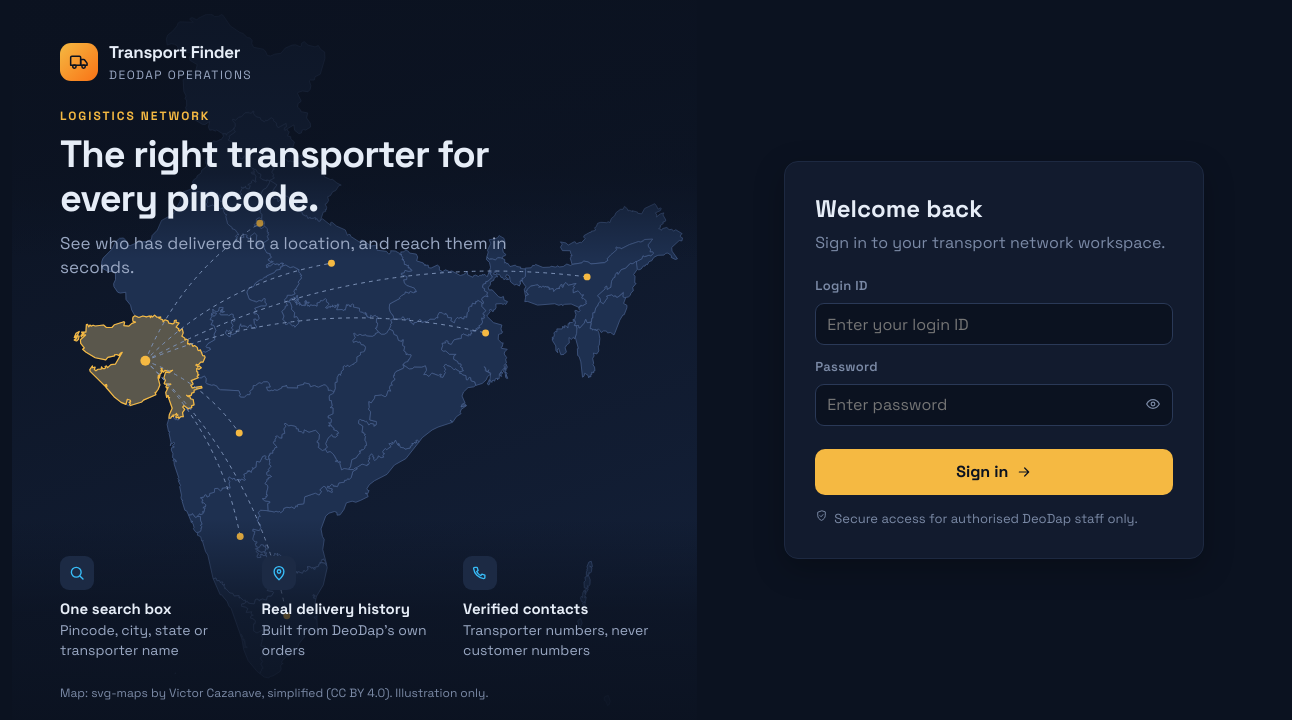
post-login landing page › User login opens the Search page
Step 1. Type "User_deodap@123" into the field with placeholder "Enter your login ID" → (994,324), box [815,303,1173,345]
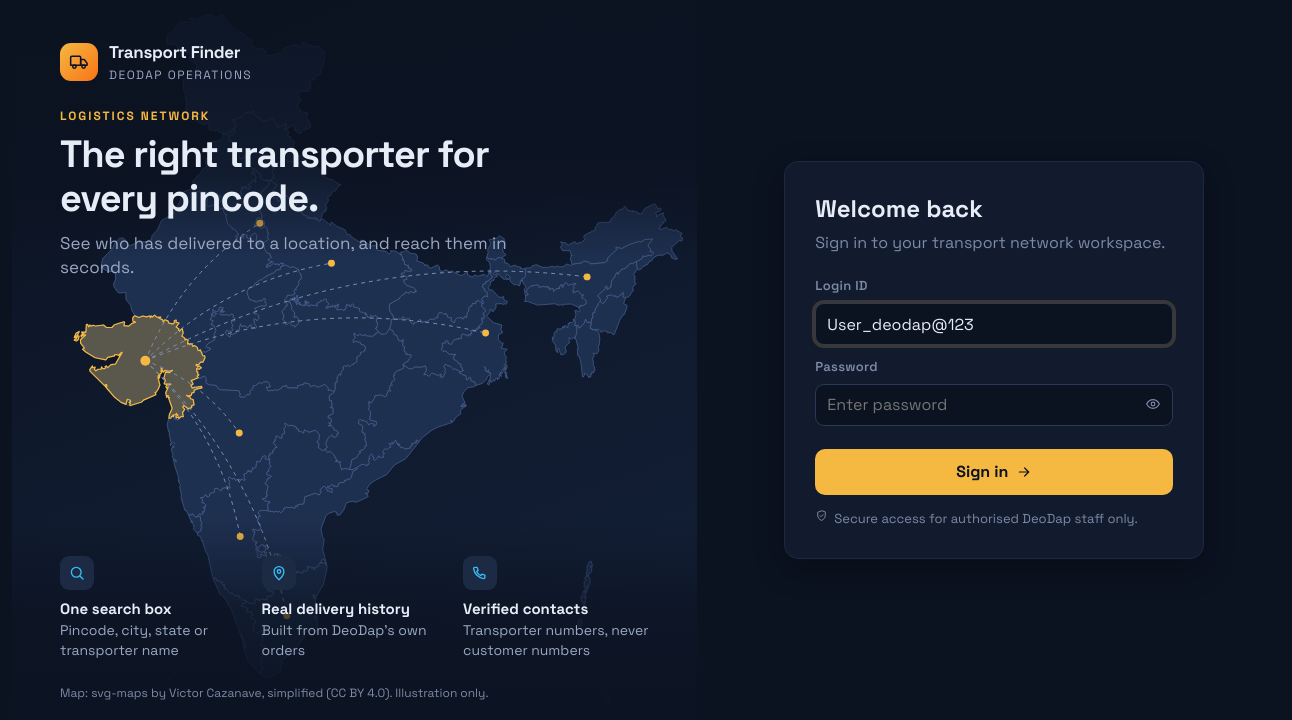
Step 2. Type "User@123" into the password field with placeholder "Enter password" → (994,405), box [815,384,1173,426]
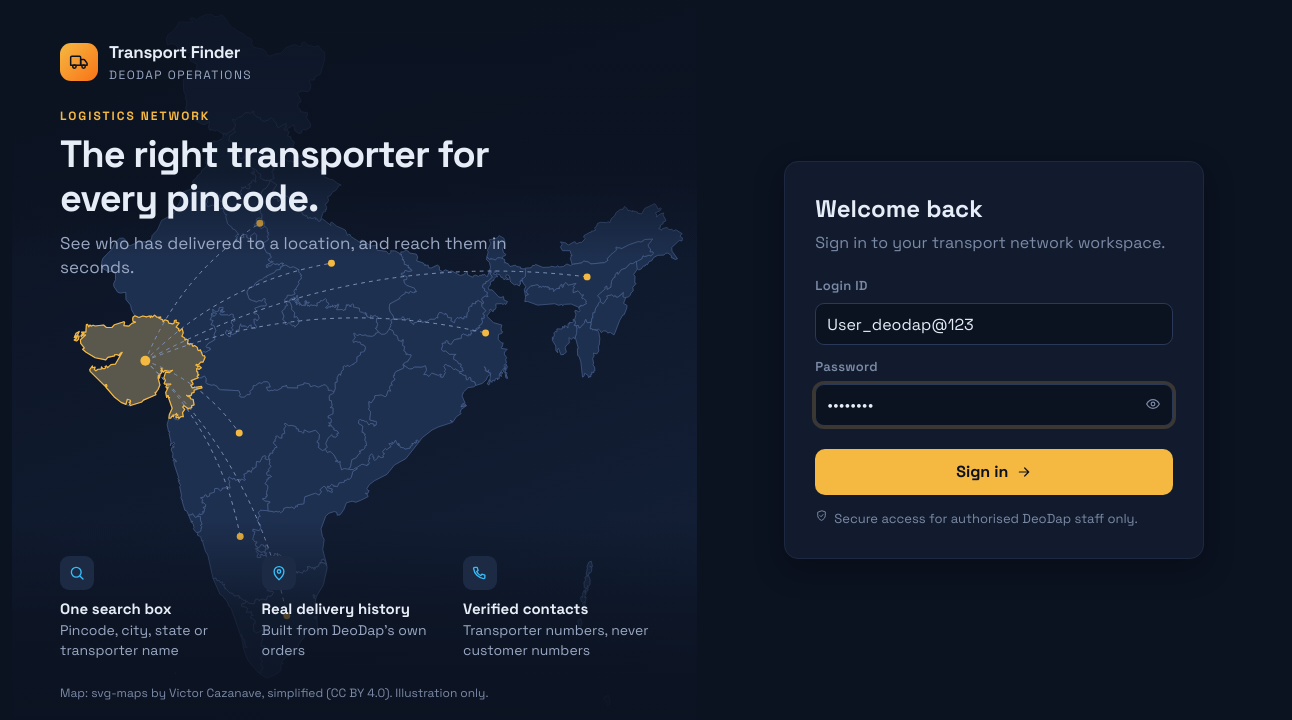
Step 3. Click the button "Sign in" → (994,472), box [815,449,1173,495]
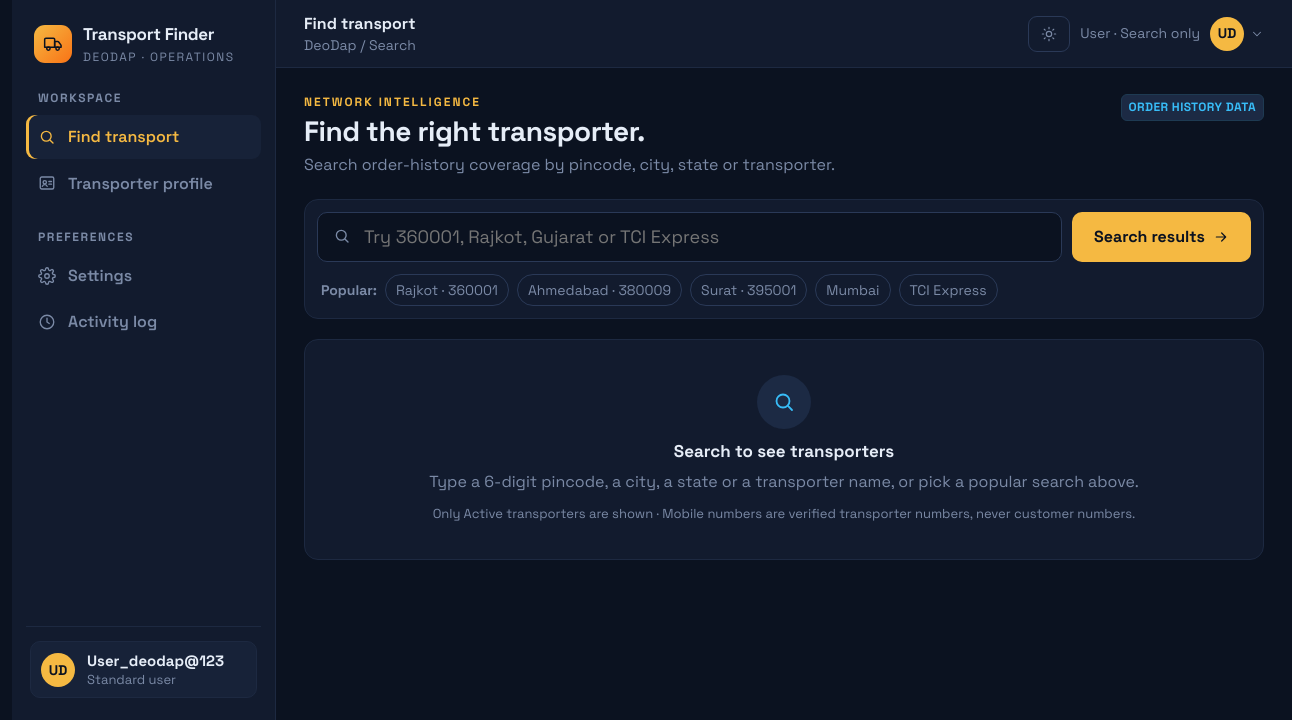
Expected: the heading "Find the right transporter." is shown, [304,113,645,149]
